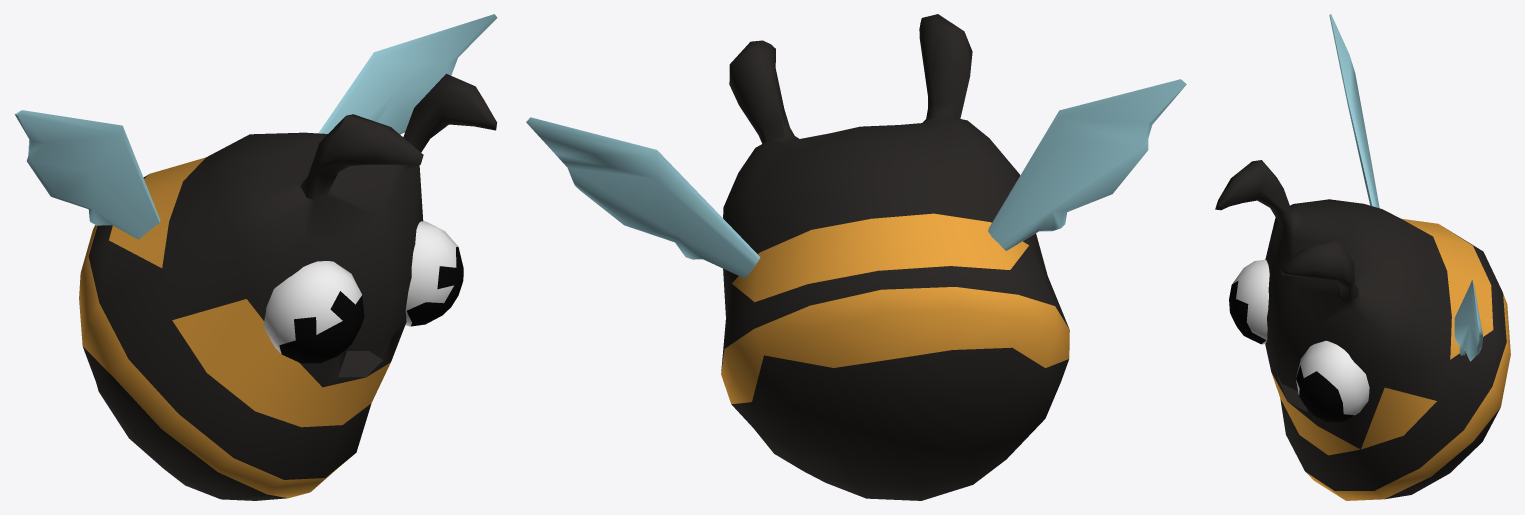
File: Bee.glb
3 renders of one model, left to right at view 1: azimuth 30°, elevation 25°; view 2: azimuth 150°, elevation 25°; view 3: azimuth 270°, elevation 25°, orthographic. The views are drawn at different scales.
Parts seen in each view (by area): view 1: Bee; view 2: Bee; view 3: Bee.
Part boxes in pixels (x1,y1,x2,y2): Bee: [14, 14, 497, 500]; Bee: [526, 14, 1186, 500]; Bee: [1215, 14, 1510, 500].
Size of the model in its own units: 0.2402 by 0.1845 by 0.1328.
2 materials, 2 textured.
